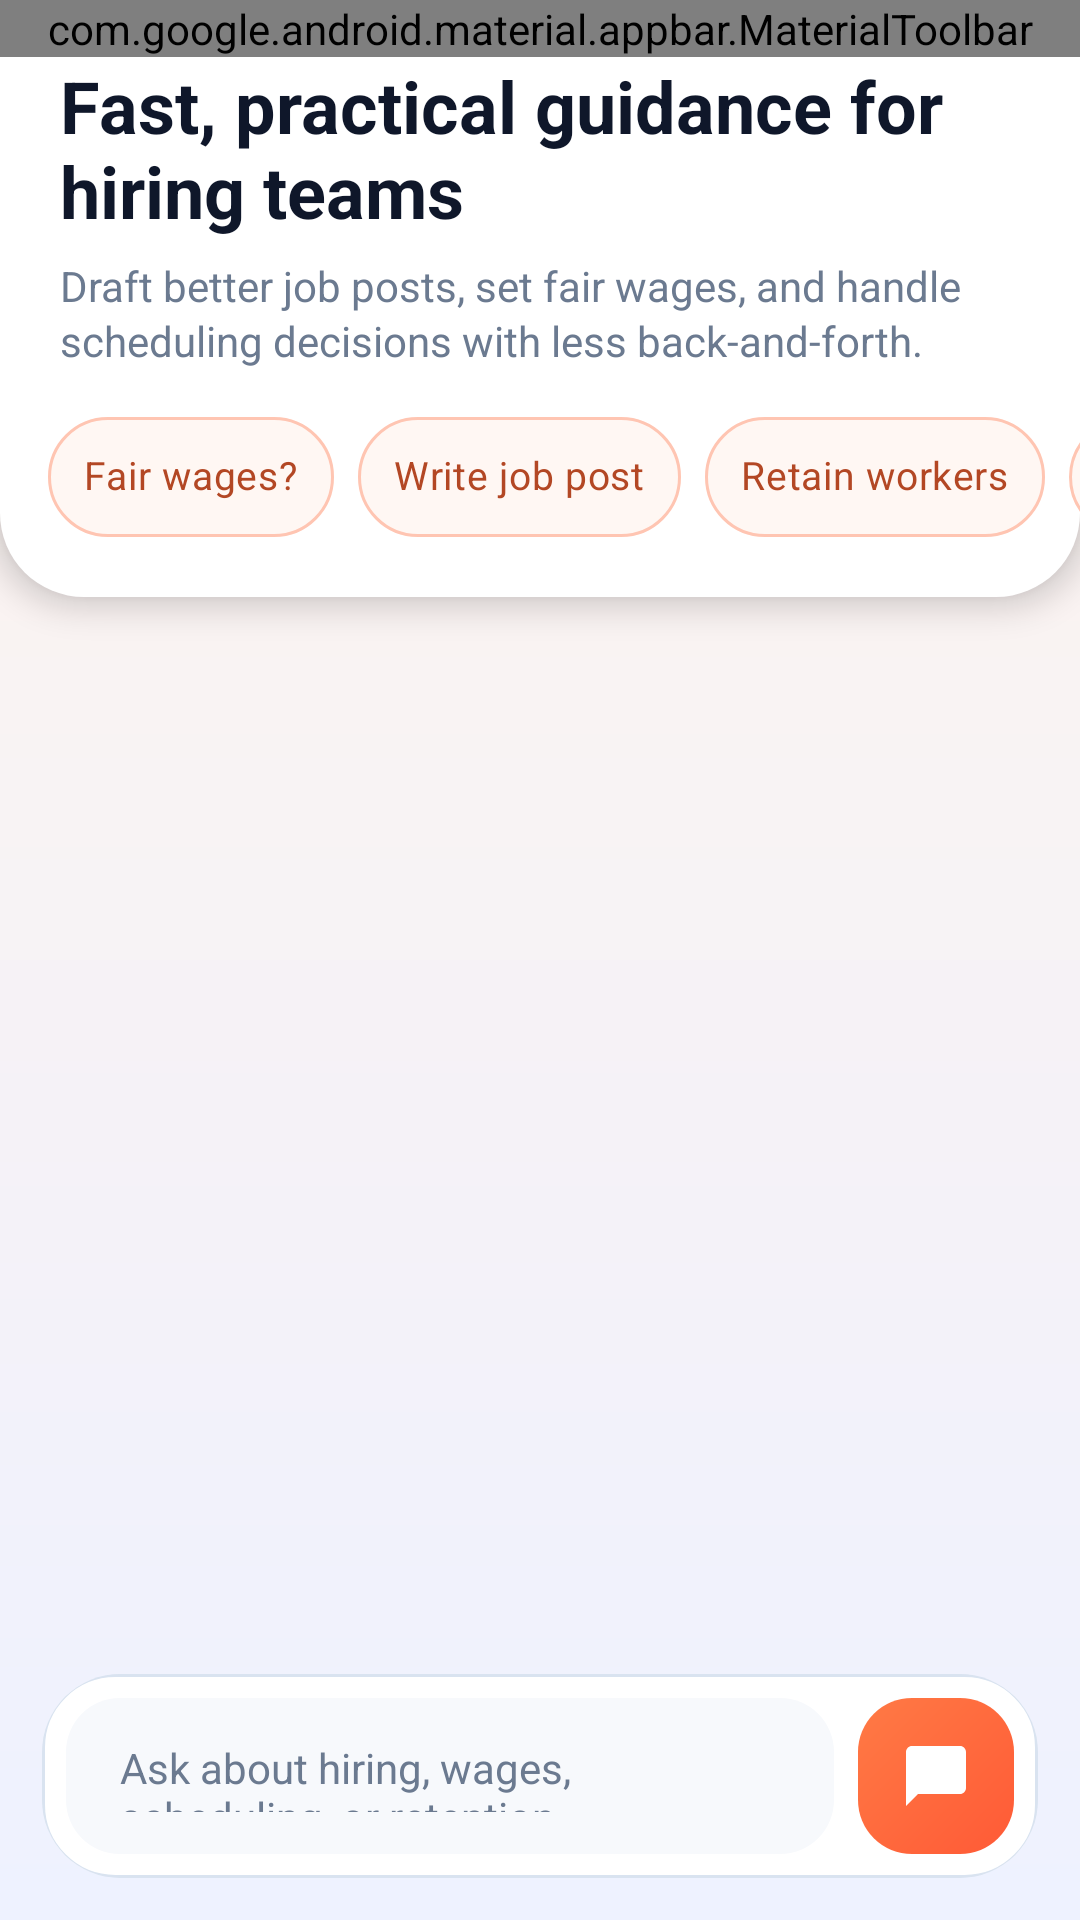

Named icons in this screenshot (1080 × 1920) and their bounding boxes, BBox(x1, y1, x2, y2):
Send question: BBox(858, 1698, 1014, 1854)
